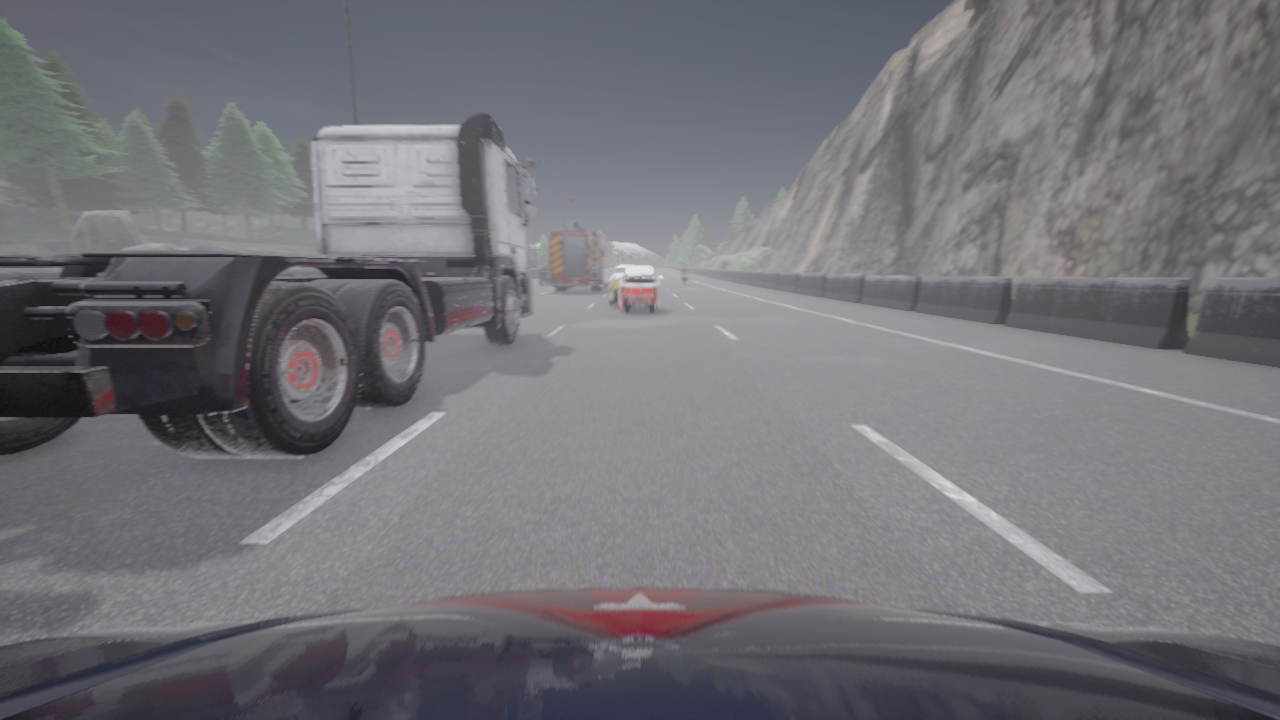cyclist: (0, 112, 538, 457), (0, 588, 1279, 719), (549, 221, 613, 291), (616, 266, 662, 313), (608, 265, 636, 304), (539, 265, 549, 284), (681, 271, 687, 284)
